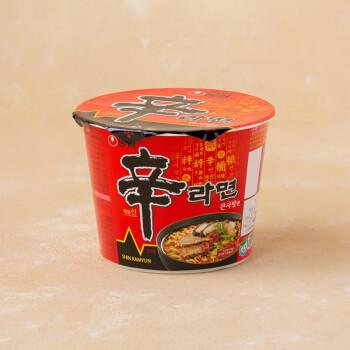instant_noodle: (67, 91, 272, 269)
